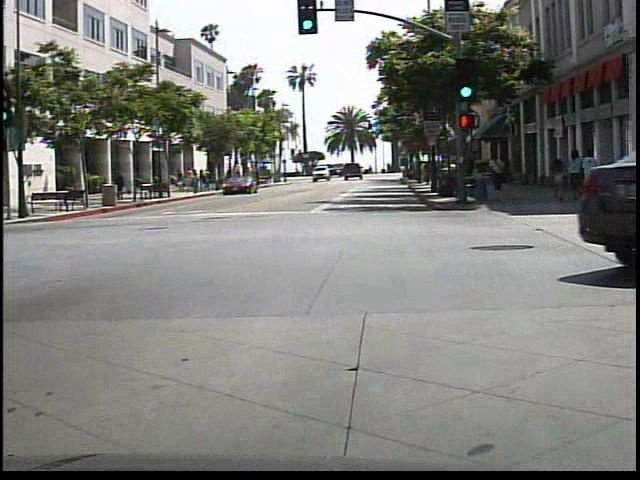person: (484, 151, 507, 195), (112, 163, 129, 204)
